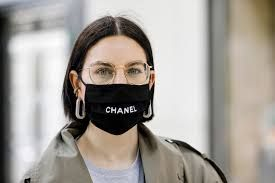with-mask: (68, 15, 158, 138)
